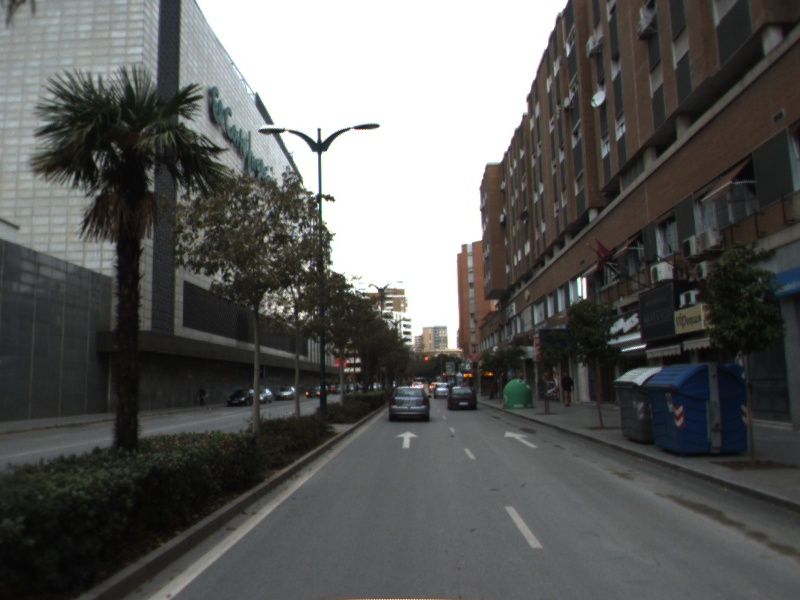STRAIGHT: (502, 429, 541, 450), (395, 429, 421, 450)
